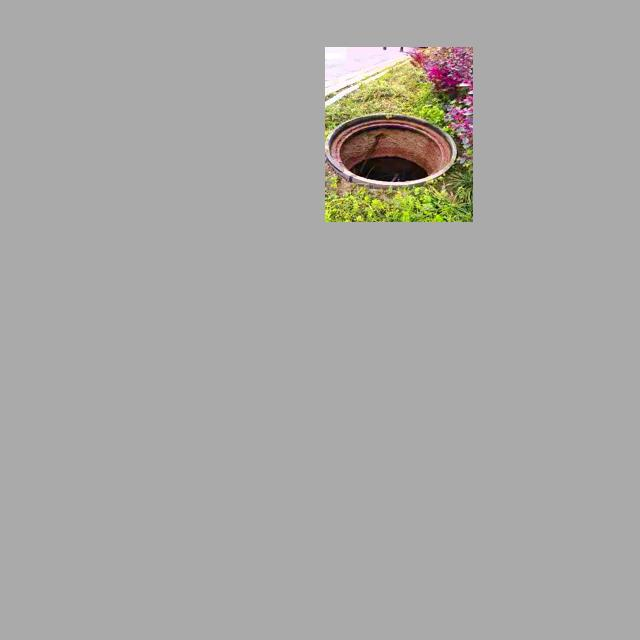lose: (327, 107, 463, 187)
